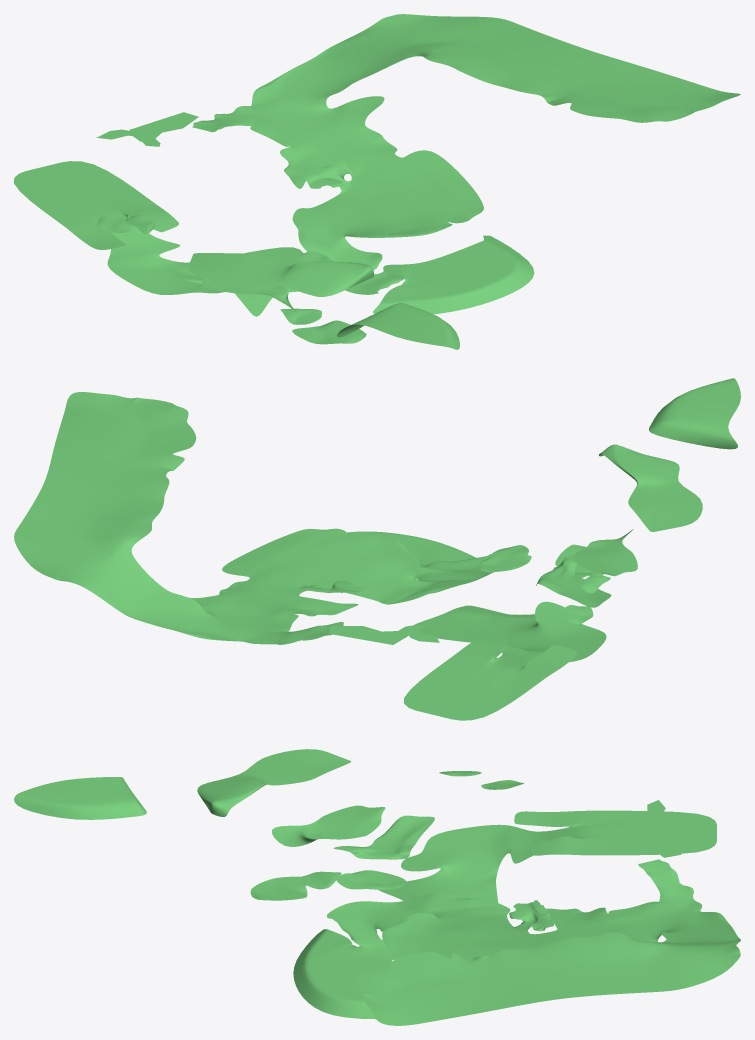
The model's file is dwarf_location_village.fbx.
3 views of the same model, one above another, from view 1: azimuth 30°, elevation 25°; view 2: azimuth 150°, elevation 25°; view 3: azimuth 270°, elevation 25° (orthographic).
Parts seen in each view (by area): view 1: ground; view 2: ground; view 3: ground.
Boxes of the visible parts, box(x1,y1,x2,y2) form: ground: box(14, 14, 740, 349); ground: box(14, 378, 740, 720); ground: box(14, 749, 740, 1025).
Bounding box in the file's own units: 91064 × 16080 × 98442.
